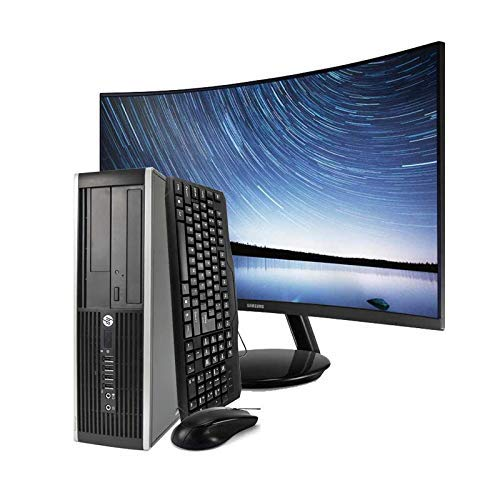Teclado: (162, 175, 244, 415)
